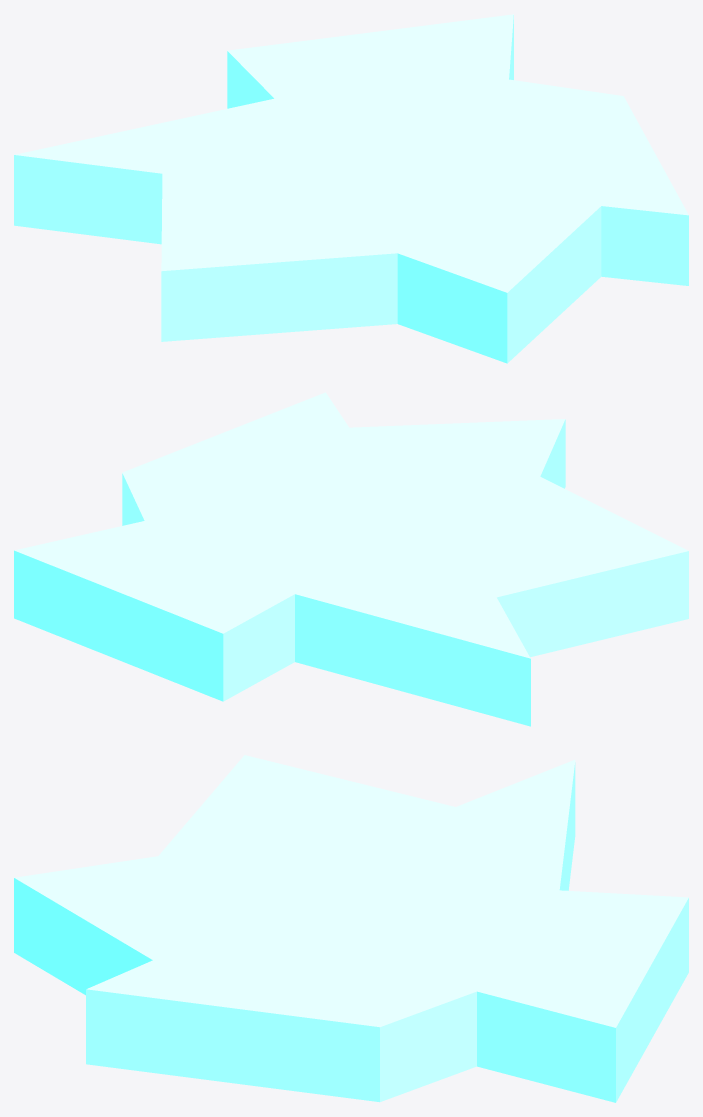
The picture shows the model from 3 angles, top to bottom: view 1: azimuth 30°, elevation 25°; view 2: azimuth 150°, elevation 25°; view 3: azimuth 270°, elevation 25°; orthographic projection. The views are drawn at different scales.
Parts seen in each view (by area): view 1: Ice; view 2: Ice; view 3: Ice.
Boxes of the visible parts, x1,y1,x2,y2 form: Ice: (14,14,688,363); Ice: (14,392,688,726); Ice: (14,755,688,1102).
Bounding box in the file's own units: 0.2378 × 0.0305 × 0.2485.
